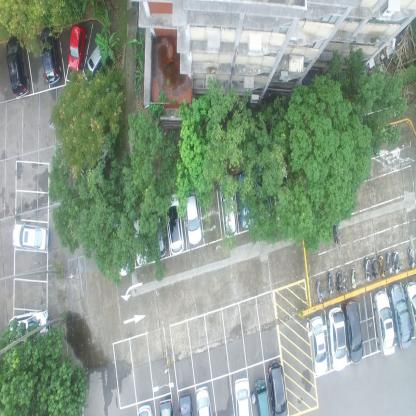car: (5, 34, 30, 99), (389, 283, 412, 350), (8, 308, 50, 344), (373, 290, 395, 356), (39, 25, 62, 85), (343, 299, 363, 363), (164, 194, 184, 257), (11, 222, 49, 254), (328, 307, 347, 370), (82, 42, 108, 87), (220, 168, 236, 238), (184, 184, 202, 246), (309, 314, 327, 376), (268, 360, 288, 415), (67, 23, 88, 71), (256, 168, 274, 223), (238, 172, 255, 229), (275, 164, 291, 224), (150, 203, 167, 259), (133, 207, 148, 264), (404, 280, 416, 338), (235, 377, 252, 415), (254, 378, 270, 415), (195, 384, 213, 416), (178, 393, 193, 415), (158, 397, 174, 415), (138, 403, 153, 415)
